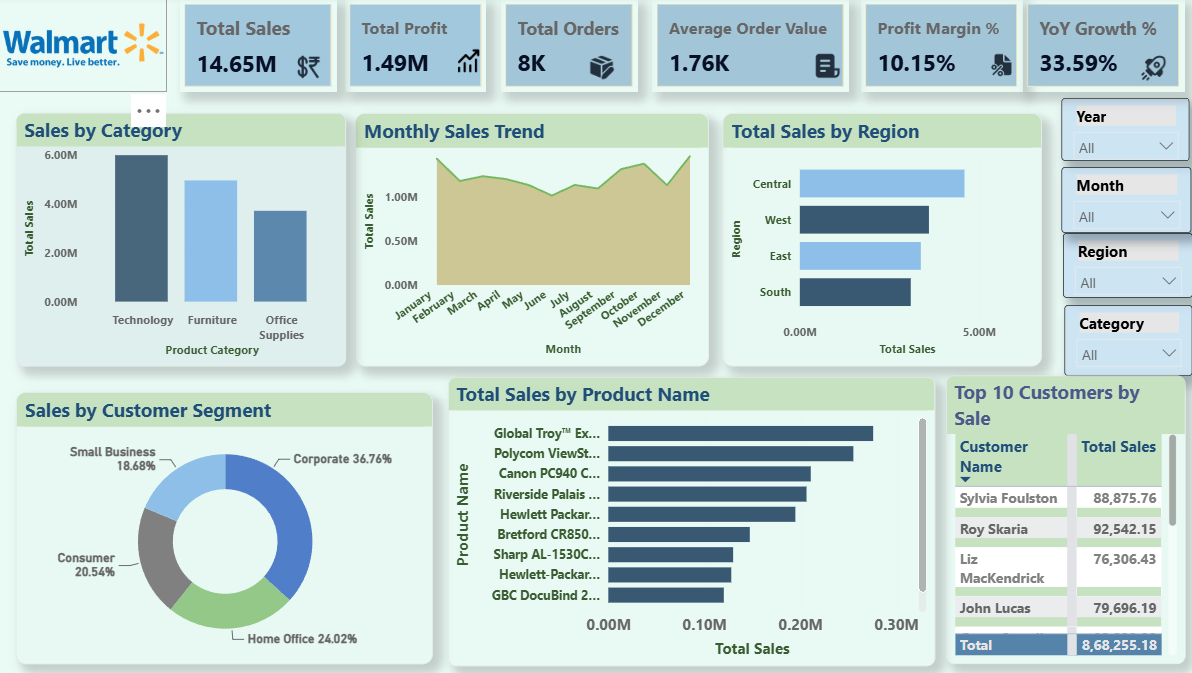

What the dashboard file says about the page in this screenshot:
{"tool":"powerbi","page":{"name":"Executive Summary","canvas":[1280,720],"ordinal":0},"visuals":[{"type":"slicer","fields":{"Values":["Dim Date.Year"]},"box":[1128.3,108,136.7,66.7],"z":0},{"type":"slicer","fields":{"Values":["walmart Retail Data.Region"]},"box":[1128.9,251.5,138.3,68.3],"z":1000},{"type":"slicer","fields":{"Values":["walmart Retail Data.Product Category"]},"box":[1131.5,328,136.7,75],"z":2000},{"type":"cardVisual","fields":{"Data":["Measures for visuals.Total Sales"]},"box":[191.9,3.4,166.7,98.3],"z":3000},{"type":"cardVisual","fields":{"Data":["Measures for visuals.Average Order Value"]},"box":[693.6,3.5,208.3,98.3],"z":4000},{"type":"cardVisual","fields":{"Data":["Measures for visuals.Total Profit"]},"box":[366.9,3.5,150,98.3],"z":5000},{"type":"cardVisual","fields":{"Data":["Measures for visuals.Profit Margin %"]},"box":[915.3,3.5,171.7,98.3],"z":6000},{"type":"cardVisual","fields":{"Data":["Measures for visuals.Total Orders"]},"box":[533.6,3.5,145,98.3],"z":7000},{"type":"cardVisual","fields":{"Data":["Measures for visuals.YoY Growth %"]},"box":[1086.9,3.5,171.7,98.3],"z":8000},{"type":"lineChart","title":"Monthly Sales Trend","fields":{"Category":["Dim Date.Month Name"],"Y":["Measures for visuals.Total Sales"]},"box":[378.3,123.3,375,268.3],"z":9000},{"type":"clusteredColumnChart","title":"Sales by Category","fields":{"Category":["walmart Retail Data.Product Category"],"Y":["Measures for visuals.Total Sales"]},"box":[18.3,123.3,350,268.3],"z":10000},{"type":"clusteredBarChart","fields":{"Y":["Measures for visuals.Total Sales"],"Category":["walmart Retail Data.Region"]},"box":[768.3,123.3,338.3,268.3],"z":11000},{"type":"clusteredBarChart","fields":{"Y":["Measures for visuals.Total Sales"],"Category":["Dim Product.Product Name"]},"box":[476.7,403.3,516.7,306.7],"z":12000},{"type":"tableEx","title":"Top 10 Customers by Sale","fields":{"Values":["Dim Customer.Customer Name","Measures for visuals.Total Sales"]},"box":[1005.7,402.9,254.3,305.7],"z":13000},{"type":"slicer","fields":{"Values":["Dim Date.Month Name"]},"box":[1128.3,181.3,138.3,70],"z":14000},{"type":"image","box":[0,3.3,180,98.3],"z":15000},{"type":"donutChart","title":"Sales by Customer Segment","fields":{"Y":["Sum(walmart Retail Data.Sales)"],"Category":["walmart Retail Data.Customer Segment"]},"box":[18.3,420,441.7,288.3],"z":16000},{"type":"image","box":[479,45.4,38.9,45.3],"z":17000},{"type":"image","box":[619.8,53.5,38.9,42.1],"z":18000},{"type":"image","box":[1203.6,53.4,41.7,45],"z":19000},{"type":"image","box":[1045.3,53.4,41.7,36.7],"z":20000},{"type":"image","box":[855.3,50,46.7,48.3],"z":21000},{"type":"image","box":[310.3,53.4,38.3,41.7],"z":22000}]}

Visuals, with their boxes in screenshot pixels (x1, y1, x2, y2), scaled from the page's 1280x720 canvas onto the 1192x673 screenshot:
slicer - Dim Date.Year: left=1051, top=101, right=1178, bottom=163
slicer - walmart Retail Data.Region: left=1051, top=235, right=1180, bottom=299
slicer - walmart Retail Data.Product Category: left=1054, top=307, right=1181, bottom=377
cardVisual - Measures for visuals.Total Sales: left=179, top=3, right=334, bottom=95
cardVisual - Measures for visuals.Average Order Value: left=646, top=3, right=840, bottom=95
cardVisual - Measures for visuals.Total Profit: left=342, top=3, right=481, bottom=95
cardVisual - Measures for visuals.Profit Margin %: left=852, top=3, right=1012, bottom=95
cardVisual - Measures for visuals.Total Orders: left=497, top=3, right=632, bottom=95
cardVisual - Measures for visuals.YoY Growth %: left=1012, top=3, right=1172, bottom=95
"Monthly Sales Trend" lineChart: left=352, top=115, right=702, bottom=366
"Sales by Category" clusteredColumnChart: left=17, top=115, right=343, bottom=366
clusteredBarChart - Measures for visuals.Total Sales x walmart Retail Data.Region: left=715, top=115, right=1031, bottom=366
clusteredBarChart - Measures for visuals.Total Sales x Dim Product.Product Name: left=444, top=377, right=925, bottom=664
"Top 10 Customers by Sale" tableEx: left=937, top=377, right=1173, bottom=662
slicer - Dim Date.Month Name: left=1051, top=169, right=1180, bottom=235
image: left=0, top=3, right=168, bottom=95
"Sales by Customer Segment" donutChart: left=17, top=393, right=428, bottom=662
image: left=446, top=42, right=482, bottom=85
image: left=577, top=50, right=613, bottom=89
image: left=1121, top=50, right=1160, bottom=92
image: left=973, top=50, right=1012, bottom=84
image: left=796, top=47, right=840, bottom=92
image: left=289, top=50, right=325, bottom=89
